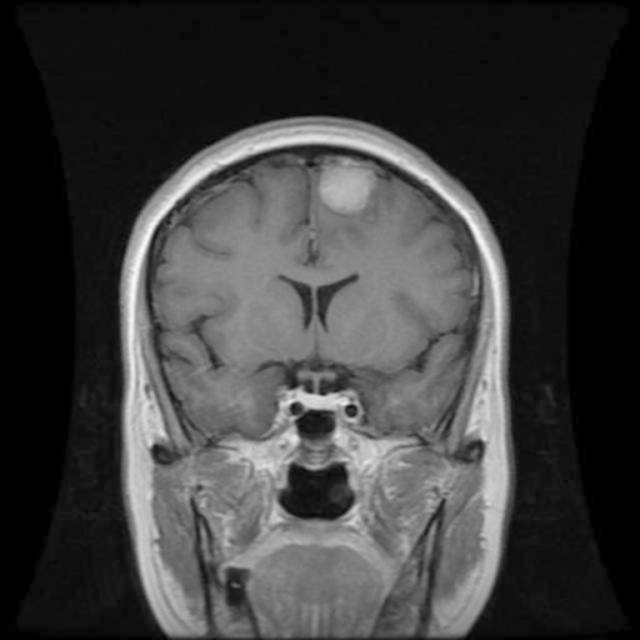meningioma tumor: (312, 154, 393, 221)
